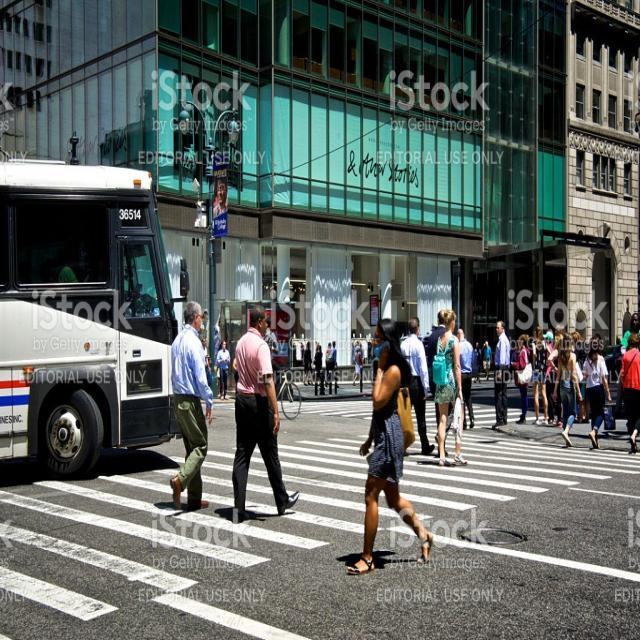body: (345, 315, 434, 576), (230, 300, 300, 524), (168, 298, 214, 512), (9, 210, 112, 284), (431, 306, 468, 468), (400, 314, 434, 456), (426, 308, 454, 458), (551, 329, 583, 447), (582, 335, 612, 450), (620, 331, 640, 454), (529, 324, 552, 428), (490, 319, 511, 431), (455, 327, 475, 430), (510, 332, 532, 424), (547, 332, 564, 428), (570, 330, 584, 423), (542, 330, 555, 426), (262, 318, 281, 378), (215, 337, 231, 401), (212, 173, 230, 221), (619, 311, 640, 352), (326, 339, 340, 389), (302, 340, 314, 386), (576, 382, 588, 426), (481, 339, 493, 382), (352, 344, 363, 386), (200, 336, 210, 382), (312, 344, 324, 380), (553, 322, 568, 348), (232, 356, 238, 392), (201, 308, 208, 334), (207, 357, 212, 390), (325, 342, 333, 360), (473, 340, 482, 356), (216, 364, 220, 396), (303, 347, 306, 385), (592, 331, 603, 340), (511, 348, 517, 360), (306, 376, 310, 385), (315, 342, 319, 350)
